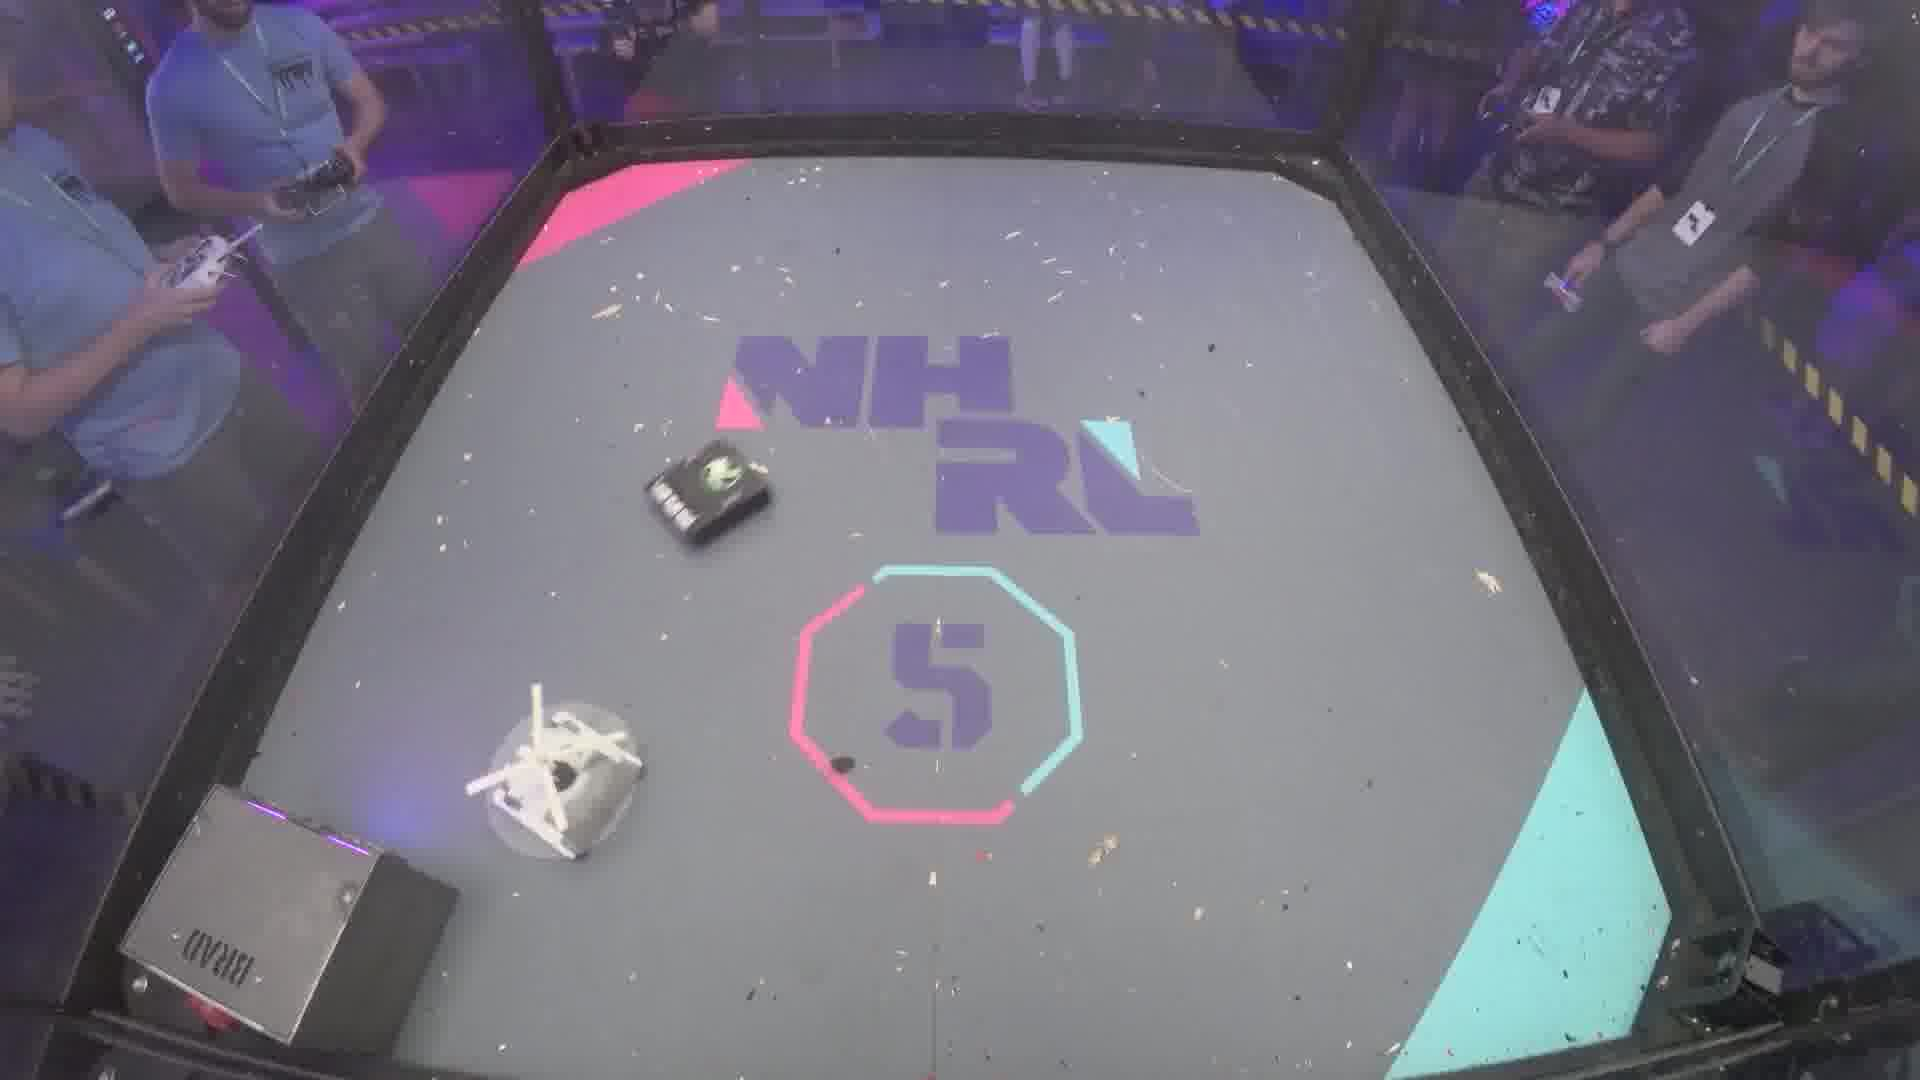combatbot: (489, 713, 649, 861), (646, 440, 770, 555)
housebot: (115, 786, 462, 1064)
